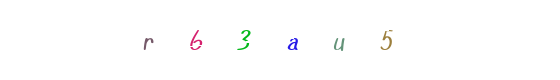3: (236, 0, 316, 80)
5: (262, 0, 342, 80)
6: (205, 0, 285, 80)
A: (240, 0, 320, 80)
R: (155, 0, 235, 80)
U: (253, 0, 333, 80)
